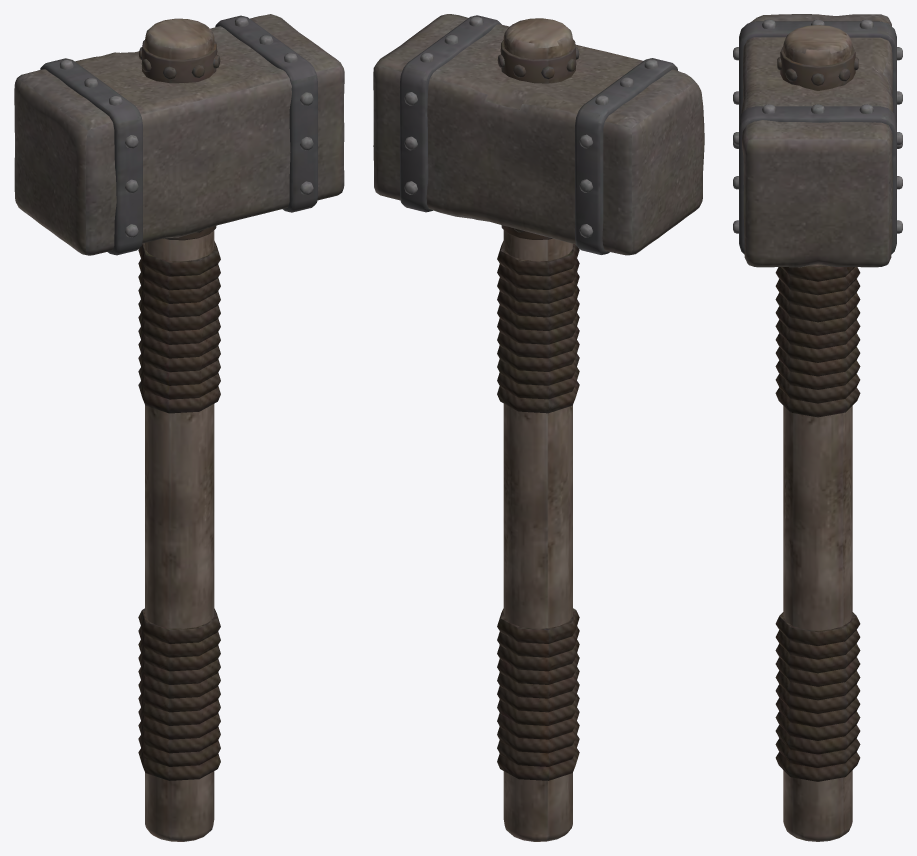
The model's file is hammer.glb.
3 views of the same model, side by side, from view 1: azimuth 30°, elevation 25°; view 2: azimuth 150°, elevation 25°; view 3: azimuth 270°, elevation 25° (orthographic).
Parts seen in each view (by area): view 1: Object_2; view 2: Object_2; view 3: Object_2.
Part boxes in pixels (<box>): Object_2: <box>14,14,344,841</box>; Object_2: <box>373,14,704,841</box>; Object_2: <box>733,14,902,841</box>.
Size of the model in its own units: 0.1227 by 0.35 by 0.0678.
Materials: 1 (1 with a texture image).
